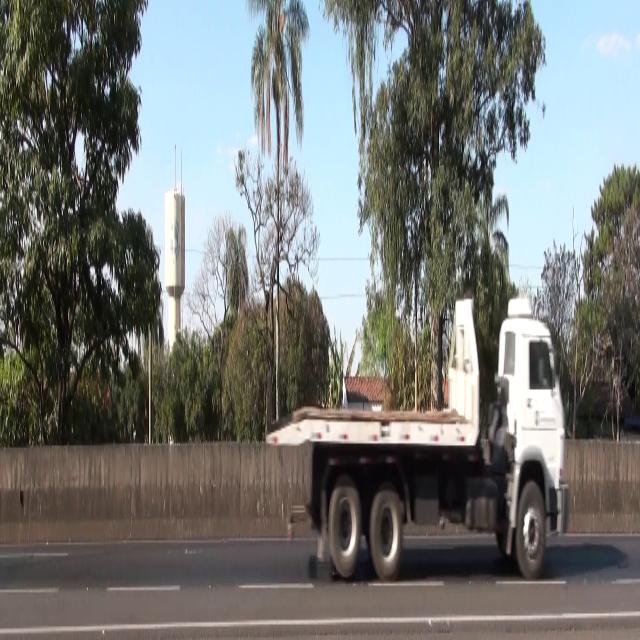-axle: (369, 479, 404, 591), (514, 477, 552, 580), (329, 476, 361, 588)
